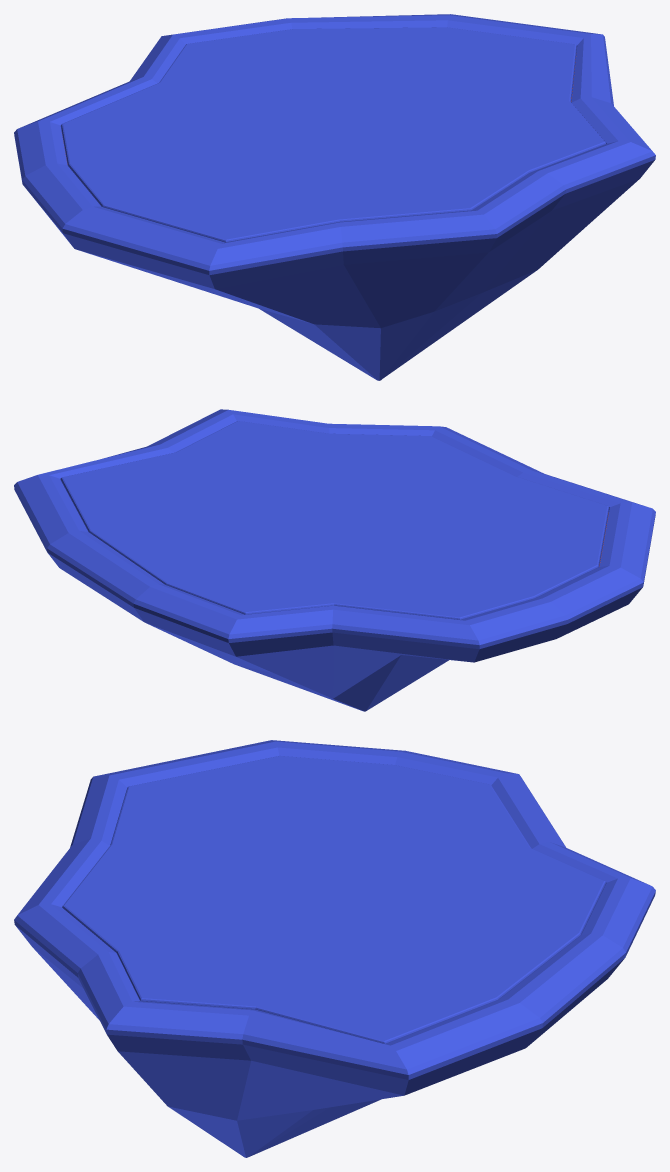
The model's file is aauntitledfinalwithTransformation.fbx.
3 renders of one model, top to bottom at view 1: azimuth 30°, elevation 25°; view 2: azimuth 150°, elevation 25°; view 3: azimuth 270°, elevation 25°, orthographic. The views are drawn at different scales.
Visible parts, largest first — view 1: body.002, body.001; view 2: body.002, body.001; view 3: body.002, body.001.
Boxes of the visible parts, x1=… form: body.002: x1=61, y1=27, x2=606, y2=242; body.001: x1=14, y1=14, x2=655, y2=380; body.002: x1=60, y1=421, x2=609, y2=619; body.001: x1=14, y1=409, x2=655, y2=711; body.002: x1=62, y1=756, x2=606, y2=1044; body.001: x1=14, y1=740, x2=655, y2=1157.
Bounding box in the file's own units: 445 × 162 × 363.
